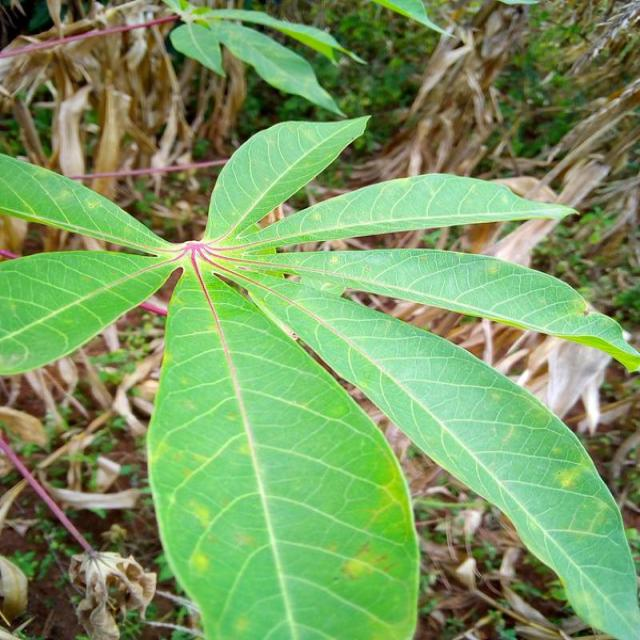cassava leaf: (0, 113, 638, 638), (145, 249, 421, 638)
